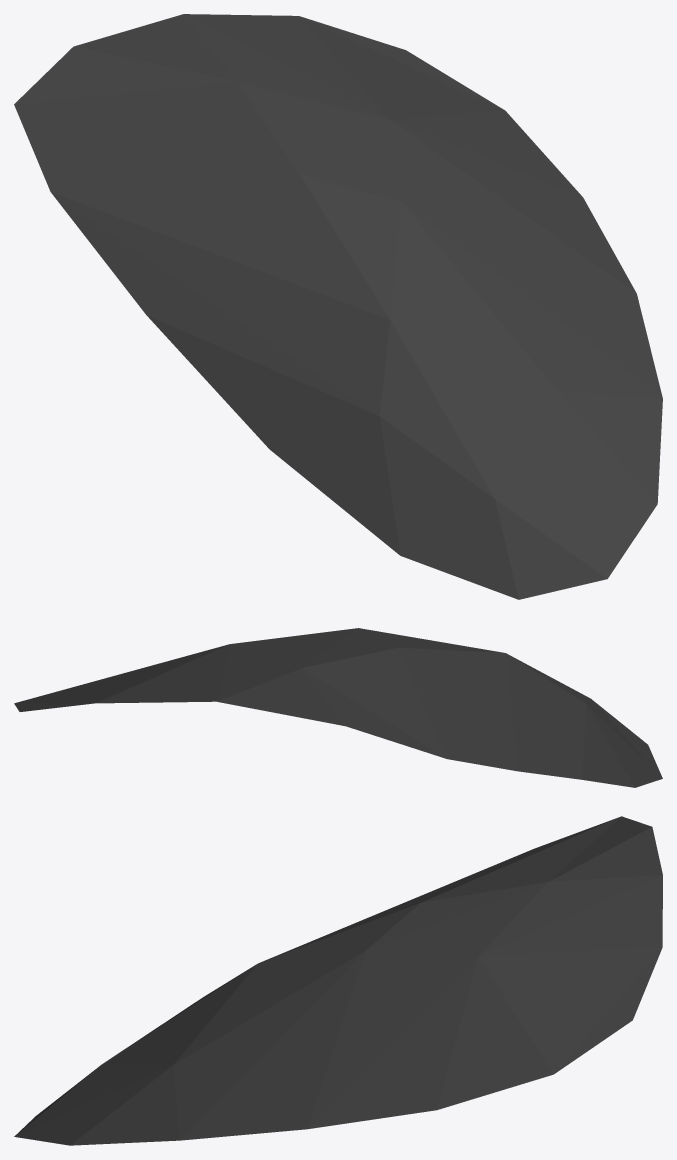
The model's file is Scapula_infraglenoid_tubercle.glb.
3 views of the same model, one above another, from view 1: azimuth 30°, elevation 25°; view 2: azimuth 150°, elevation 25°; view 3: azimuth 270°, elevation 25° (orthographic). The views are drawn at different scales.
Visible parts, largest first — view 1: Scapula_infraglenoid_tubercle; view 2: Scapula_infraglenoid_tubercle; view 3: Scapula_infraglenoid_tubercle.
Part boxes in pixels (<box>): Scapula_infraglenoid_tubercle: <box>14,14,662,599</box>; Scapula_infraglenoid_tubercle: <box>14,628,662,787</box>; Scapula_infraglenoid_tubercle: <box>14,816,662,1145</box>.
Size of the model in its own units: 0.0839 by 0.0514 by 0.118.
1 material, 1 textured.
